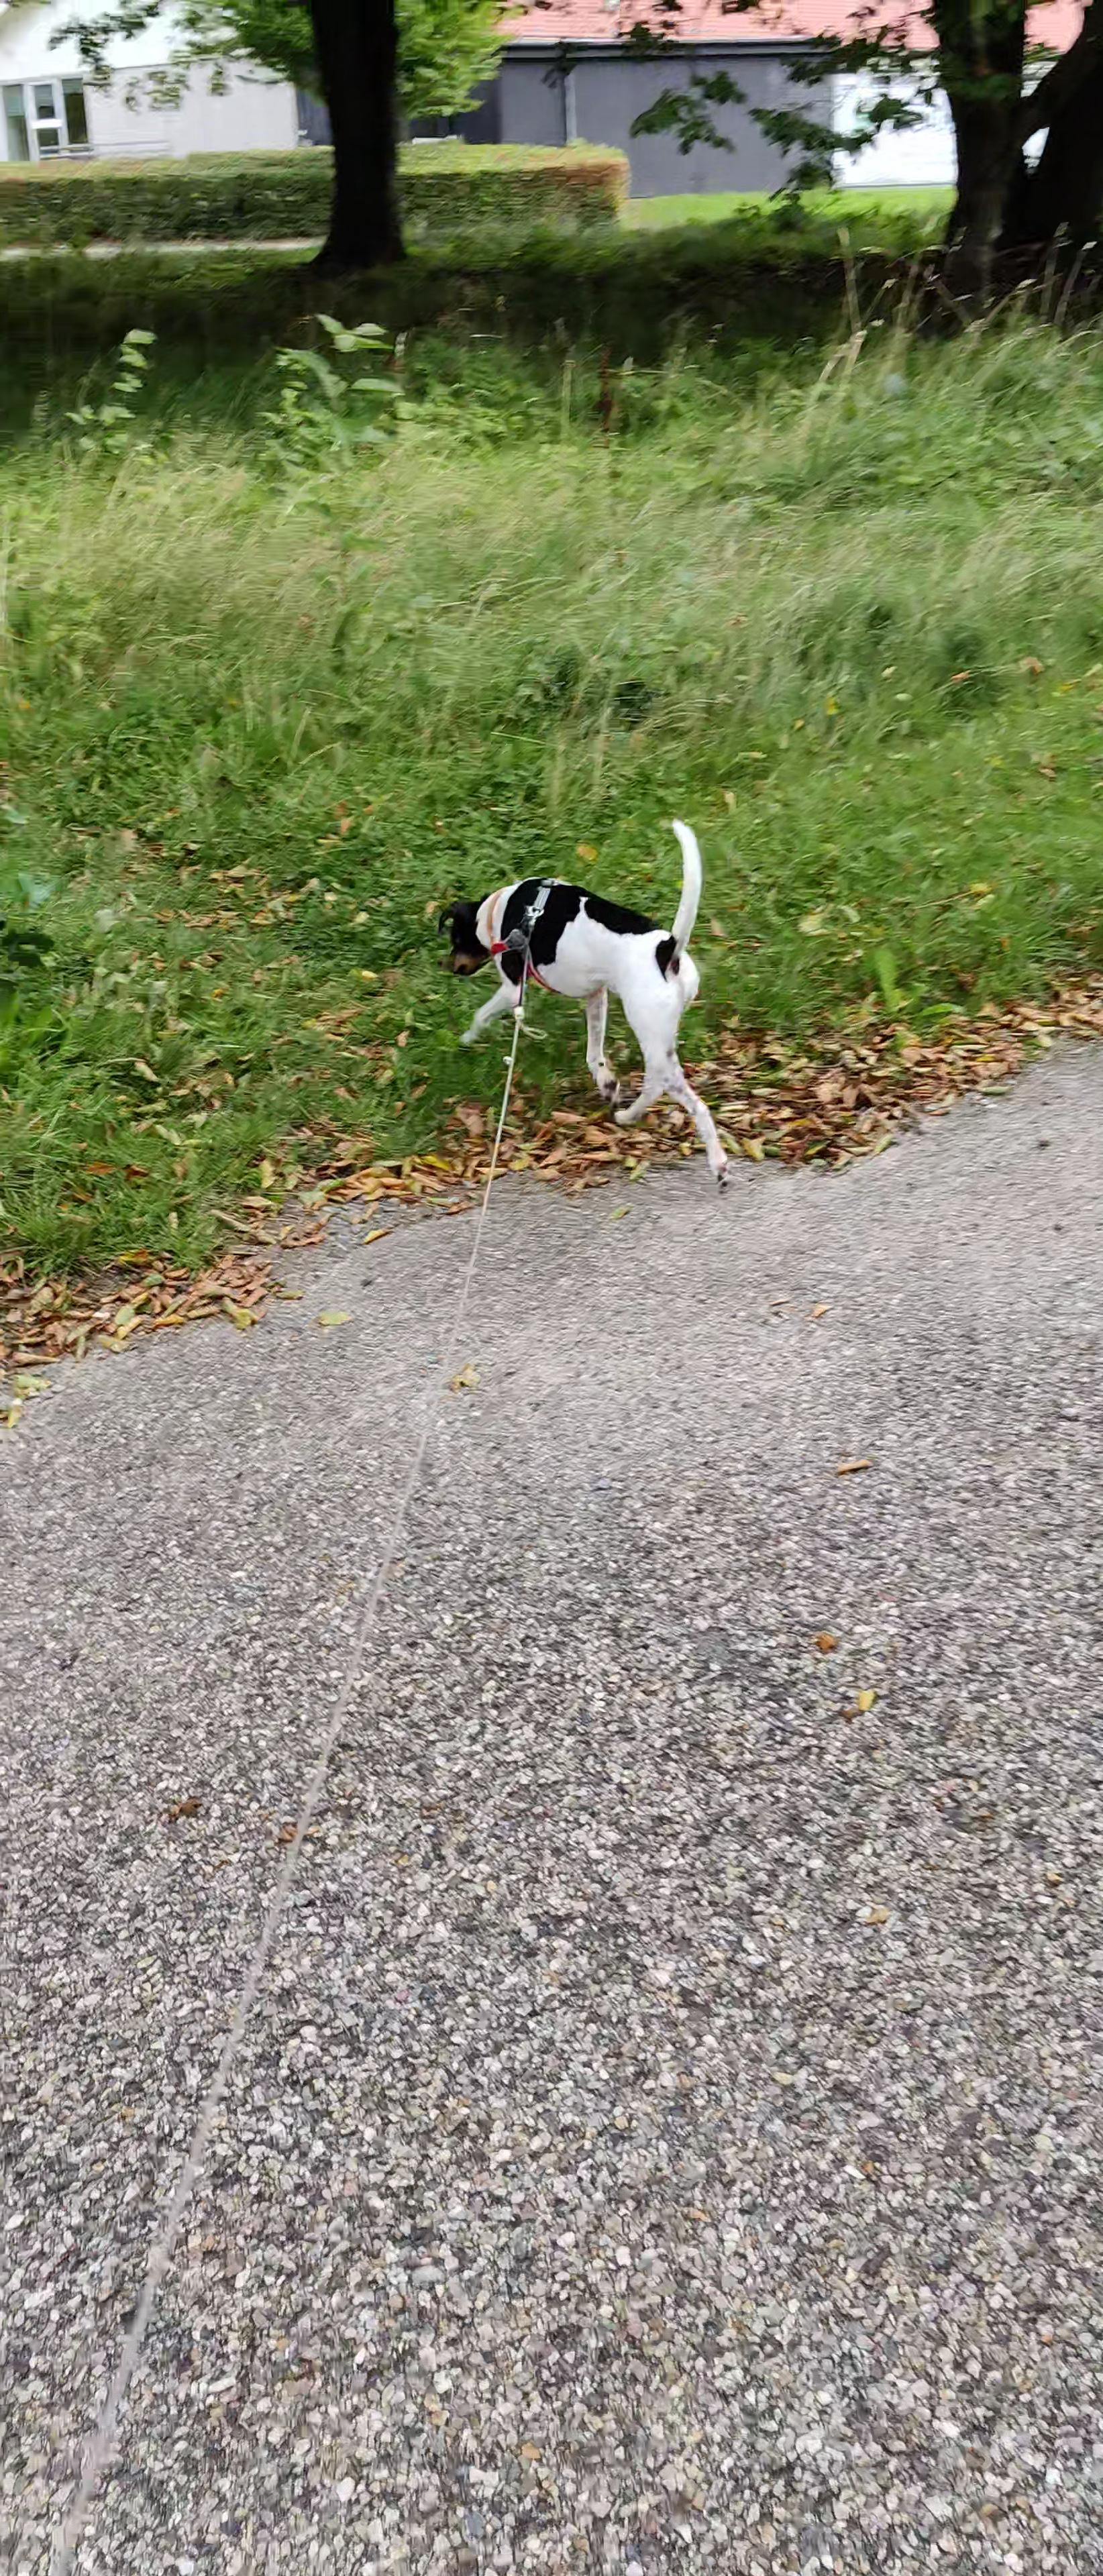Dog: (414, 797, 773, 1216)
